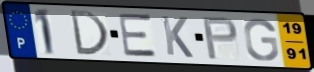1: (32, 7, 57, 56)
D: (68, 9, 111, 57)
E: (116, 13, 159, 59)
G: (242, 17, 280, 63)
K: (159, 14, 195, 60)
P: (200, 16, 240, 61)
